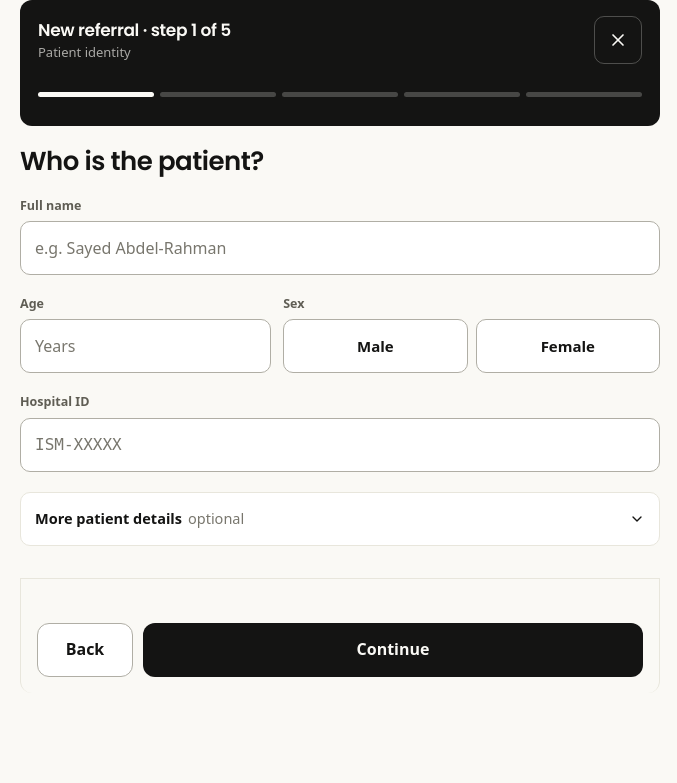
Milestone 2 - Unified Referral Intake Wizard › Continue-button validation gates › requires patient identity fields to continue past Step 1
Click the button "Continue".
click(393, 650)  # box [143,623,643,677]
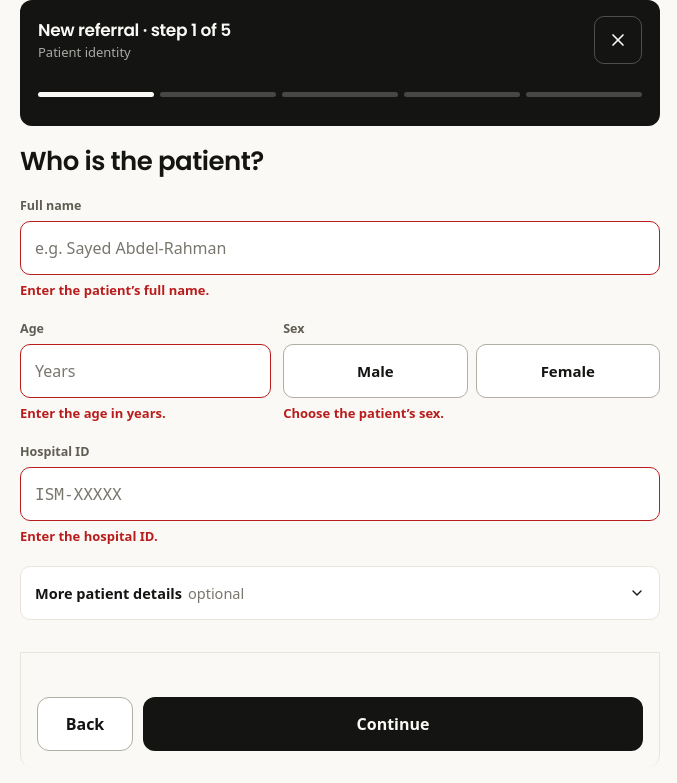
Expected: the field with id "hospitalId" is shown, [20,467,660,521]
Expected: the text "Enter the patient’s full name." is shown, [20,281,209,299]
# The message clears as soon as the field is filled.
Type "Fixed Name" into the field labelled "Full name".
click(340, 248); type("Fixed Name")  # box [20,221,660,275]
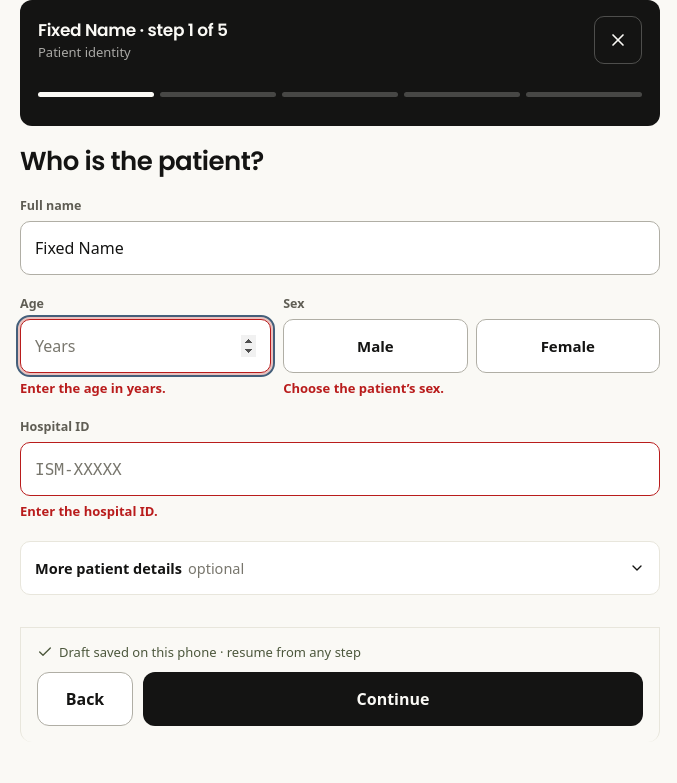
Expected: the text "Enter the patient’s full name" is gone
